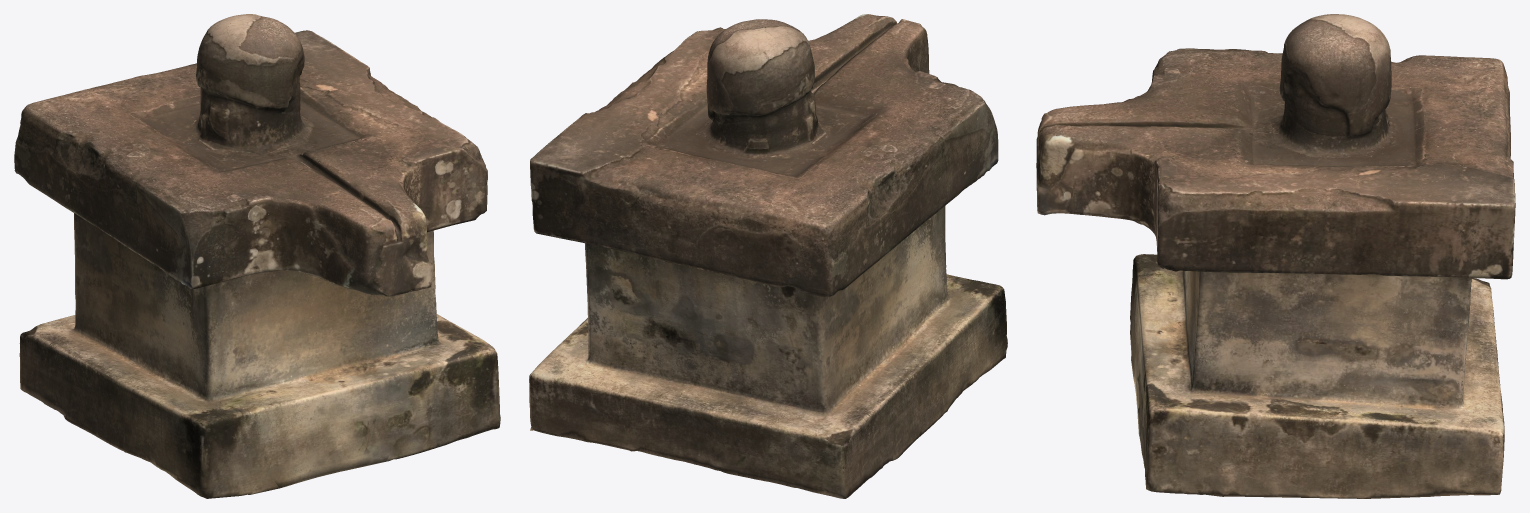
File: 01_MysonSanctuaryC_linga-yoni_final.glb
3 renders of one model, left to right at view 1: azimuth 30°, elevation 25°; view 2: azimuth 150°, elevation 25°; view 3: azimuth 270°, elevation 25°, orthographic. The views are drawn at different scales.
Size of the model in its own units: 0.8726 by 1 by 1.1.
1 material, 1 textured.
